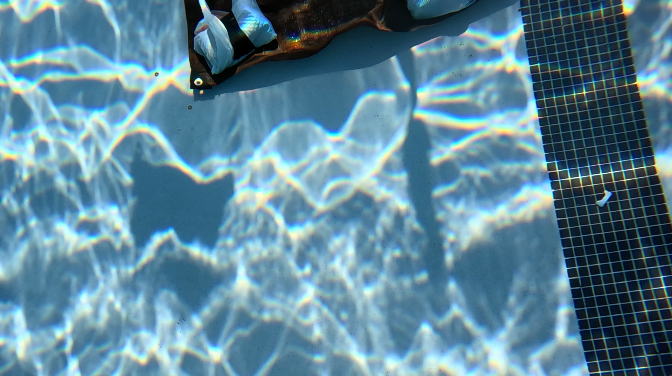sandbag: (183, 0, 480, 89)
